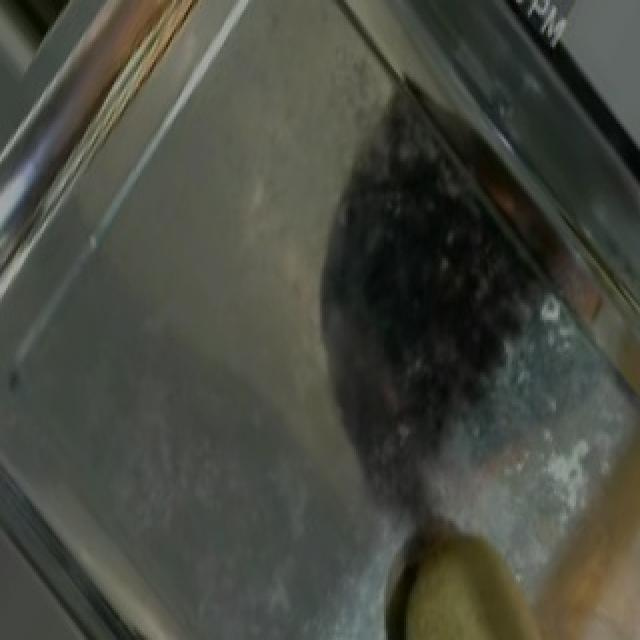Fruit: (410, 402, 640, 640), (528, 399, 640, 640)
